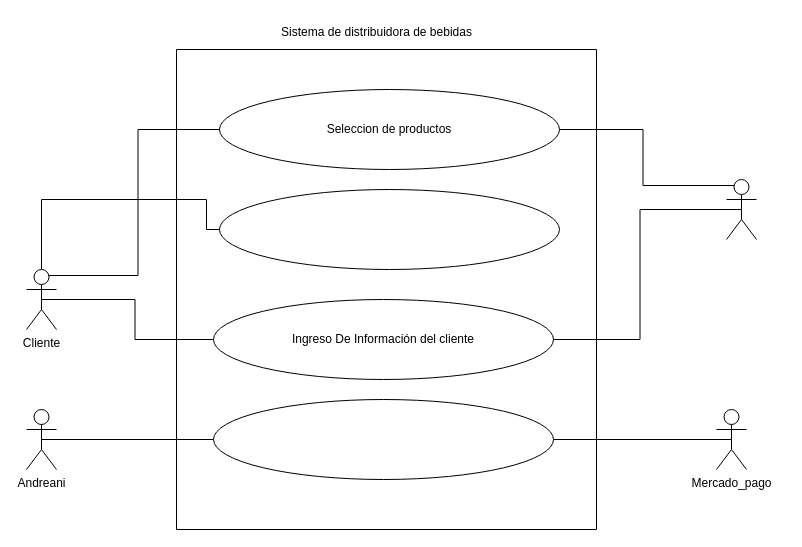
This 802x547 diagram has some shape labels left out. Here are the shapes that lost their labels. From the top down, the centre of each, then its label:
At (389,229): "Gestion del Carrito".
At (741,209): "Base_De_Datos".
At (383,439): "Gestión del pago y emision de factura".
